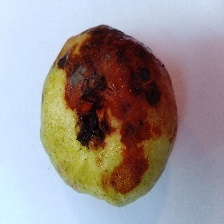guava: (15, 16, 190, 212)
